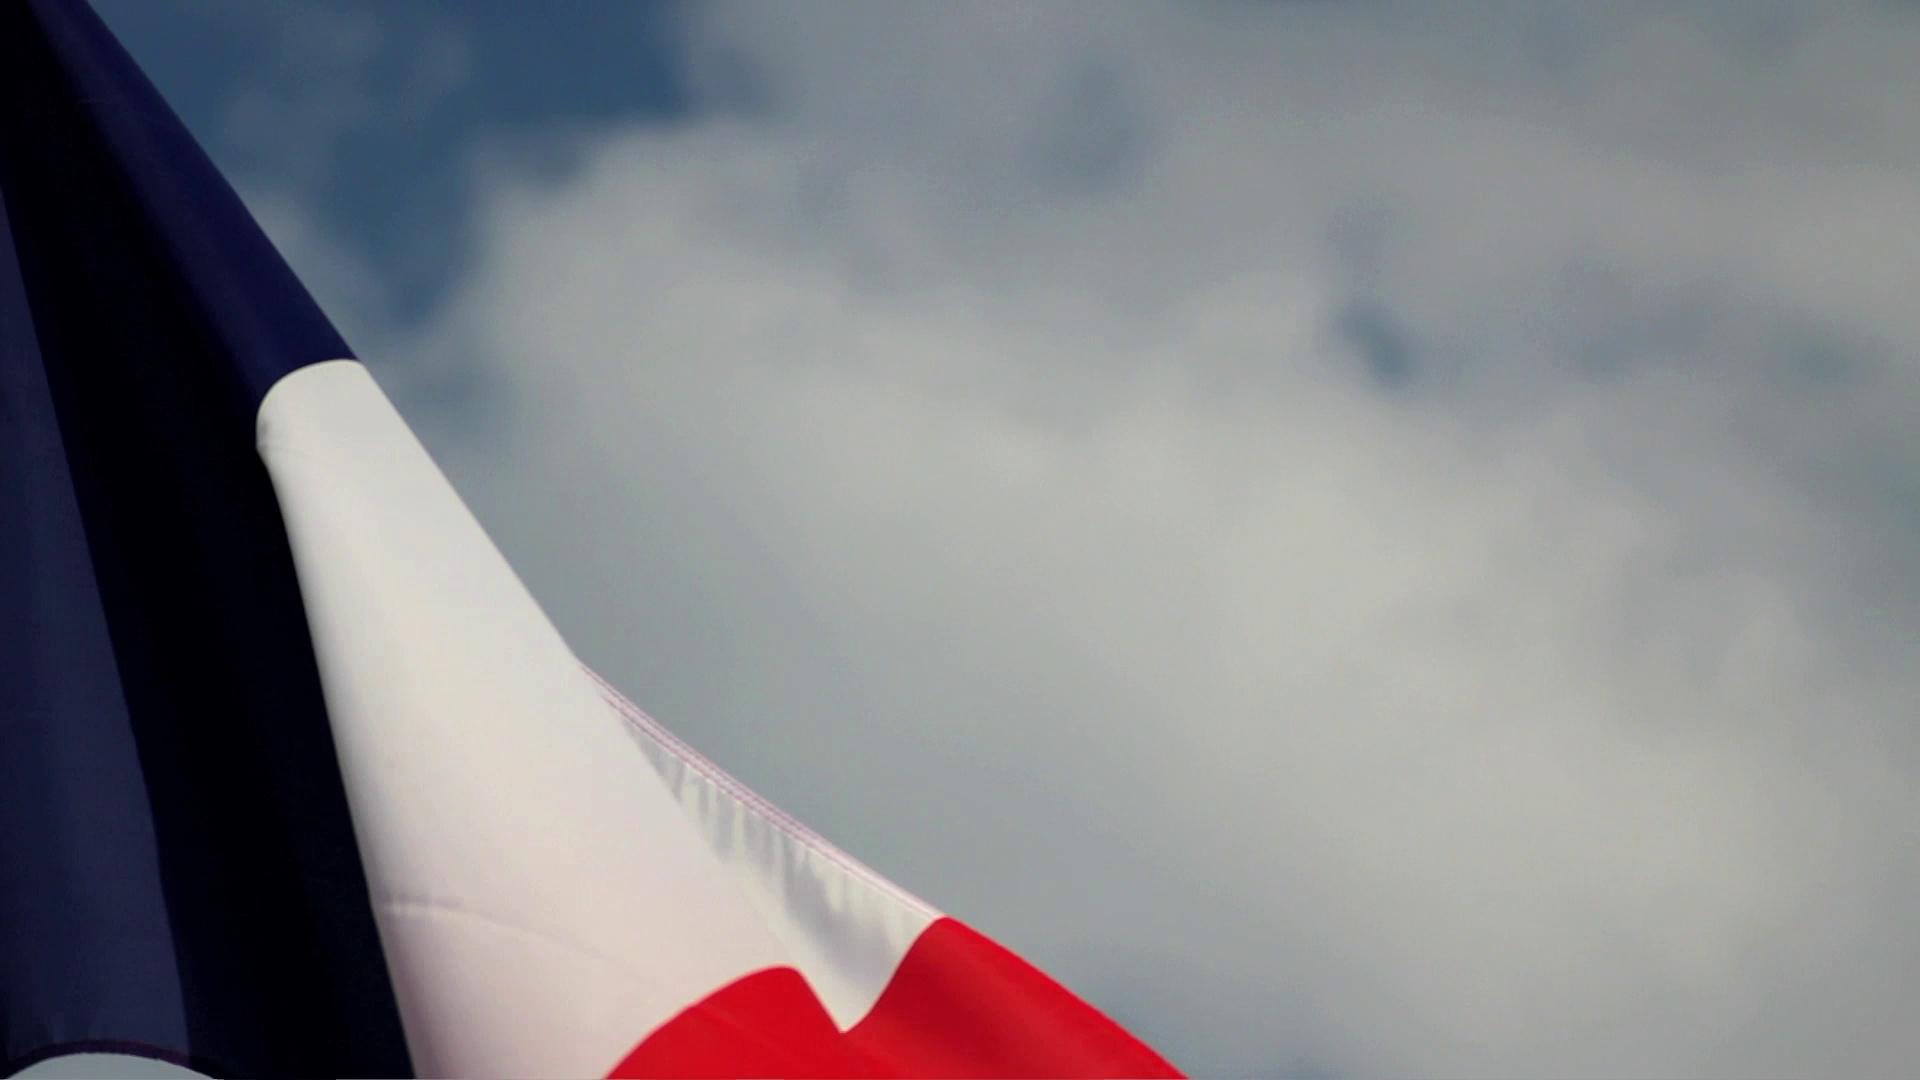French Flag: (1, 1, 1188, 1080)
